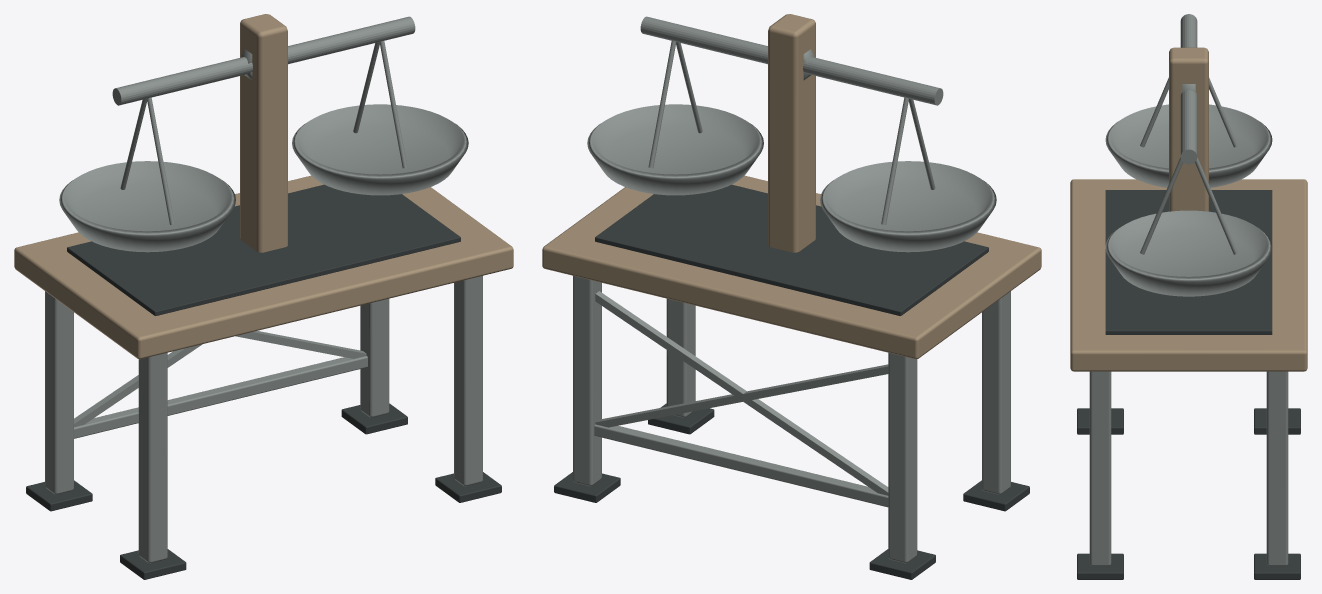
The model's file is coastal-saltworks-and-trade-port-coastal-saltworks-and-cc427b73__31398.glb.
3 renders of one model, left to right at view 1: azimuth 30°, elevation 25°; view 2: azimuth 150°, elevation 25°; view 3: azimuth 270°, elevation 25°, orthographic. The views are drawn at different scales.
Visible parts, largest first — view 1: coastal-saltworks-and-trade-port-balance-weighing-station; view 2: coastal-saltworks-and-trade-port-balance-weighing-station; view 3: coastal-saltworks-and-trade-port-balance-weighing-station.
Part boxes in pixels (<box>): coastal-saltworks-and-trade-port-balance-weighing-station: <box>14,14,513,579</box>; coastal-saltworks-and-trade-port-balance-weighing-station: <box>542,14,1041,579</box>; coastal-saltworks-and-trade-port-balance-weighing-station: <box>1070,14,1307,579</box>.
Size of the model in its own units: 1.26 by 1.47 by 0.71.
